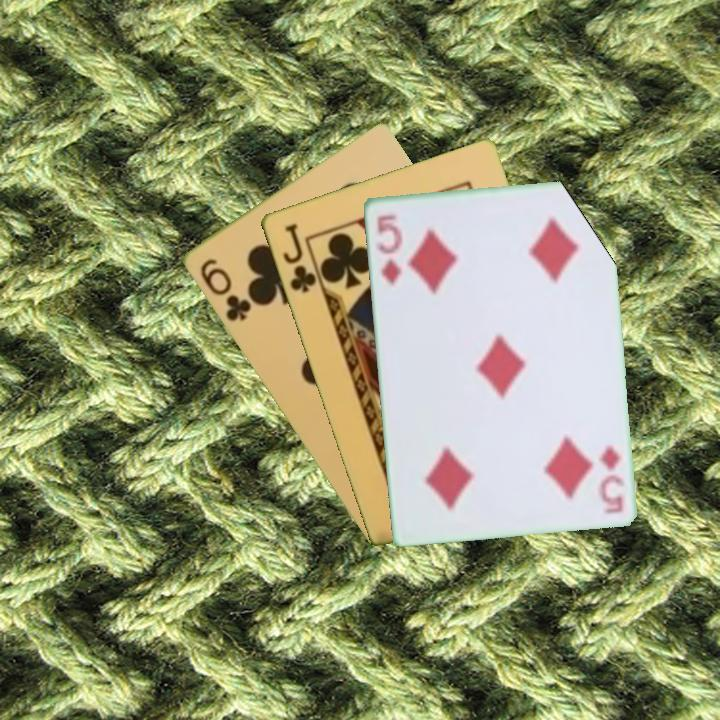5d: (595, 441, 627, 517), (373, 211, 404, 289)
6c: (196, 255, 254, 325)
Jc: (278, 219, 319, 296)
